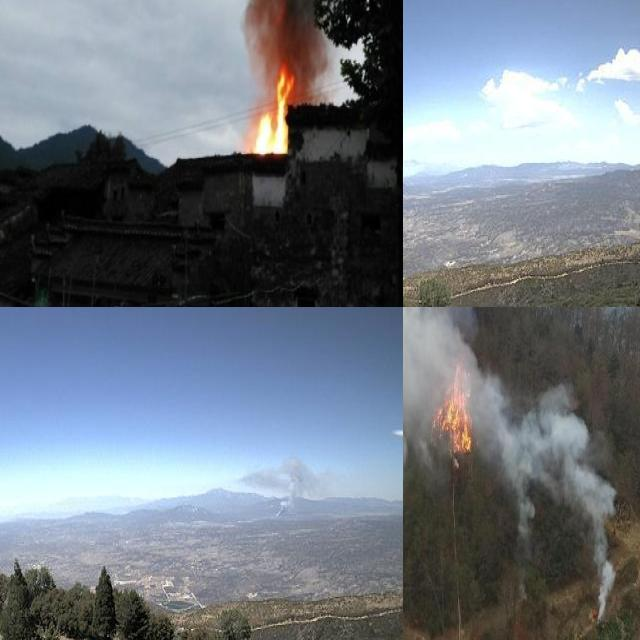fire: (403, 307, 508, 484), (252, 66, 292, 160)
smoke: (403, 307, 616, 557), (240, 0, 356, 87), (235, 451, 339, 526)
